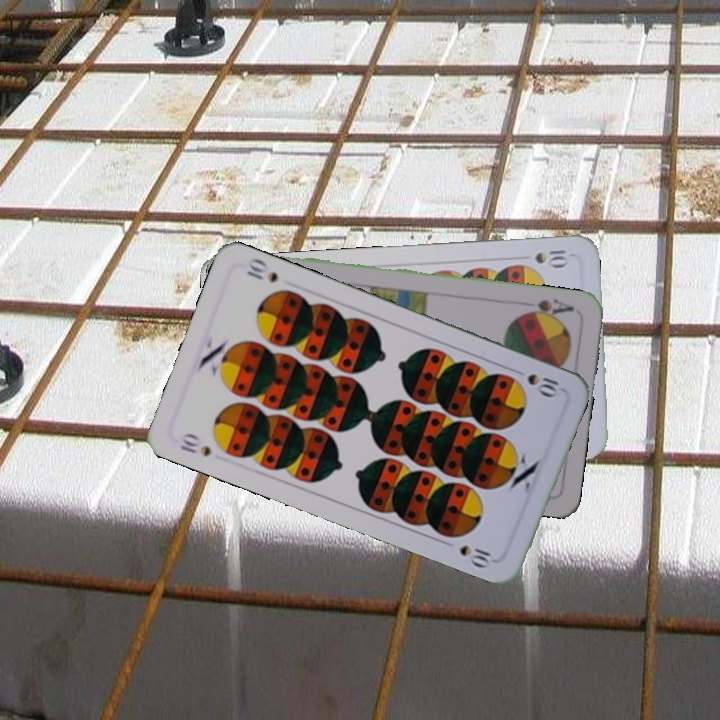S10: (522, 369, 565, 400), (176, 429, 214, 459), (531, 245, 571, 269)
SA: (518, 295, 577, 322)
